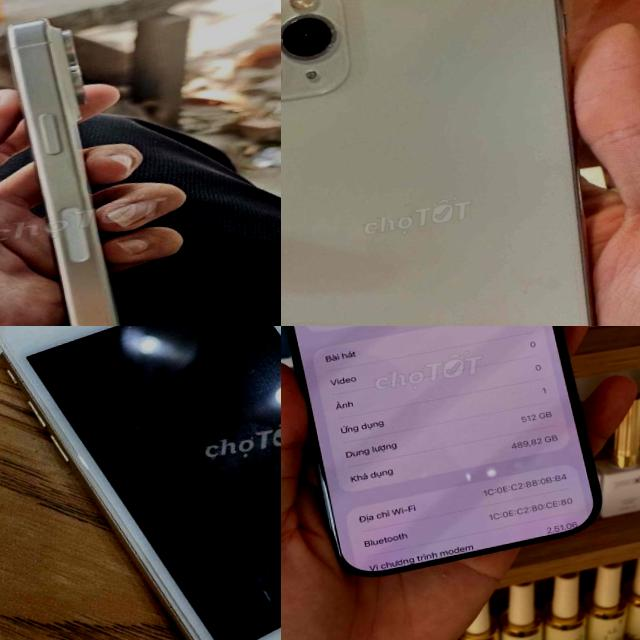gen_11: (281, 0, 640, 326)
gen_15: (0, 0, 188, 326)
gen_16: (281, 326, 621, 583)
gen_7_8: (0, 326, 281, 640)
scratch: (94, 492, 212, 640)
